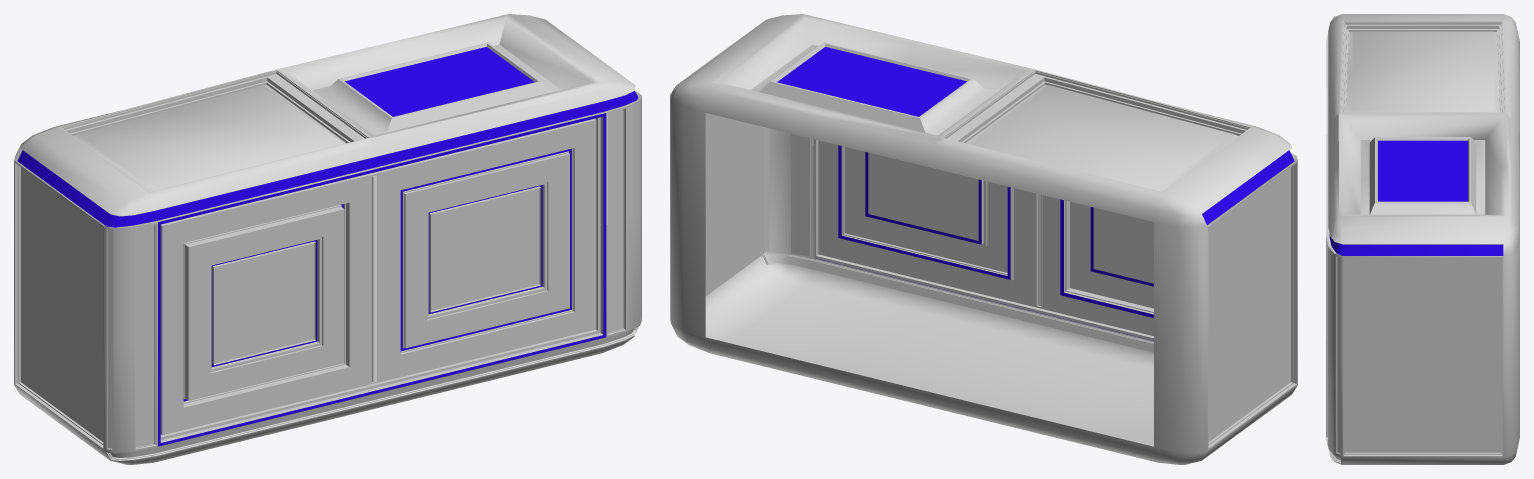
File: texturingMeublePistol_EmmisionSeparer.fbx
The picture shows the model from 3 angles, left to right: view 1: azimuth 30°, elevation 25°; view 2: azimuth 150°, elevation 25°; view 3: azimuth 270°, elevation 25°; orthographic projection. The views are drawn at different scales.
Visible parts, largest first — view 1: MeublePistol, MeublePistolEmissive; view 2: MeublePistol, MeublePistolEmissive; view 3: MeublePistol, MeublePistolEmissive.
Boxes of the visible parts, x1,y1,x2,y2 form: MeublePistol: (14, 14, 641, 464); MeublePistolEmissive: (17, 47, 638, 446); MeublePistol: (670, 14, 1297, 464); MeublePistolEmissive: (777, 47, 1294, 340); MeublePistol: (1326, 14, 1519, 464); MeublePistolEmissive: (1326, 88, 1503, 337).
Size of the model in its own units: 416 by 201 by 145.
